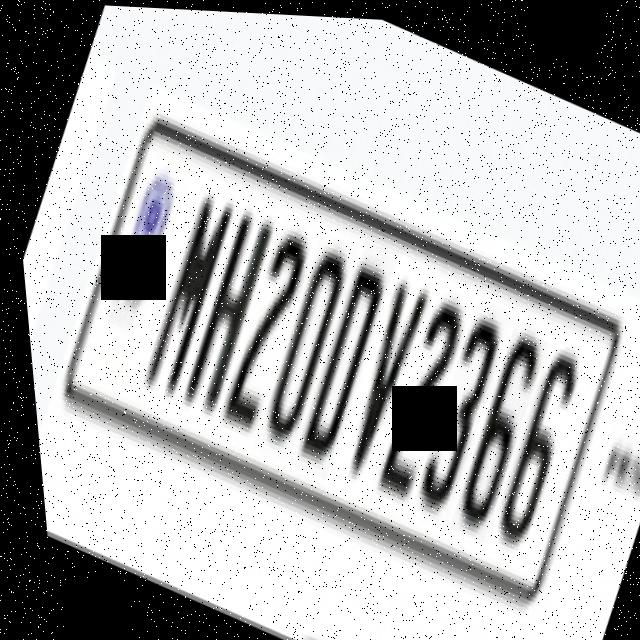0: (228, 224, 370, 466)
3: (388, 290, 525, 521)
6: (453, 319, 604, 571), (425, 318, 561, 543)
D: (268, 233, 409, 481)
H: (151, 190, 295, 427)
M: (112, 170, 254, 410)
V: (297, 241, 454, 514)
